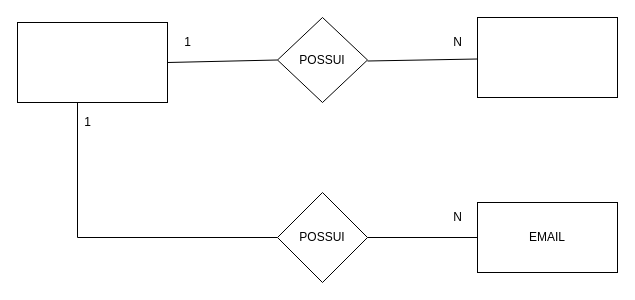
The diagram is 635 pixels wide and 300 high, and some of its shapes have lost their labels. The centre of each missing label's shape, as x and y in pixels:
PESSOA: [92,62]
TELEFONE: [547,57]
